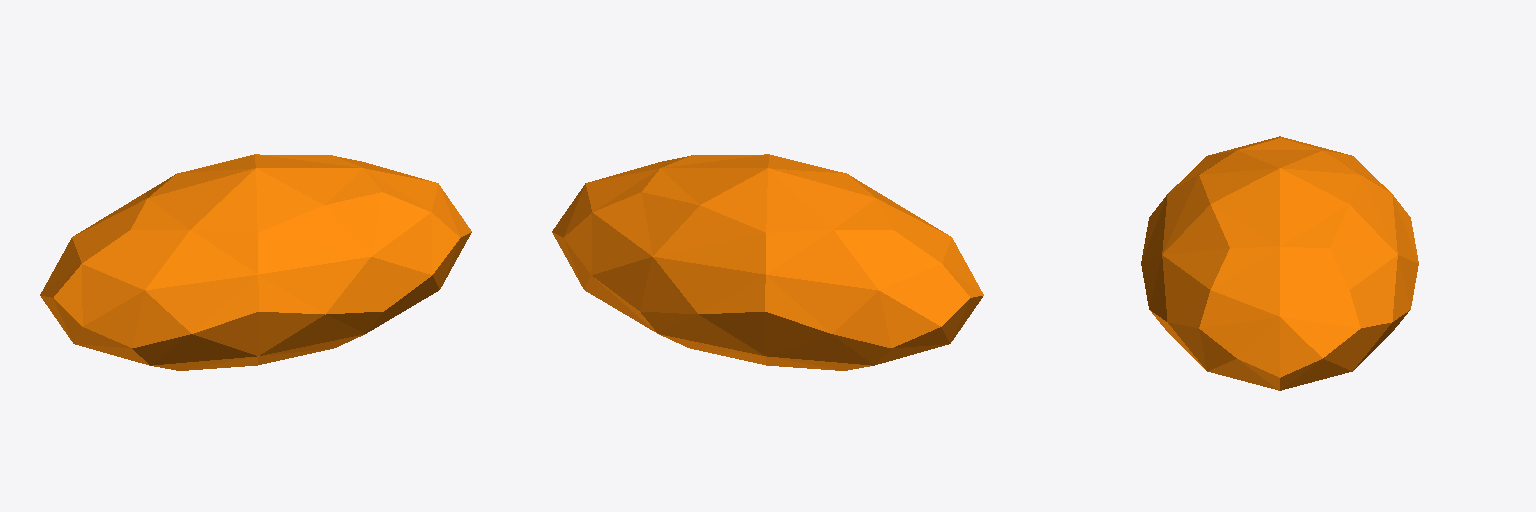
The model's file is Bread.obj.
3 views of the same model, side by side, from view 1: azimuth 30°, elevation 25°; view 2: azimuth 150°, elevation 25°; view 3: azimuth 270°, elevation 25° (orthographic).
Visible parts, largest first — view 1: Bread_Icosphere.002; view 2: Bread_Icosphere.002; view 3: Bread_Icosphere.002.
Part boxes in pixels (x1,y1,x2,y2): Bread_Icosphere.002: (40,154,471,370); Bread_Icosphere.002: (552,154,983,370); Bread_Icosphere.002: (1141,136,1418,390).
Size of the model in its own units: 1 by 0.4145 by 0.5947.